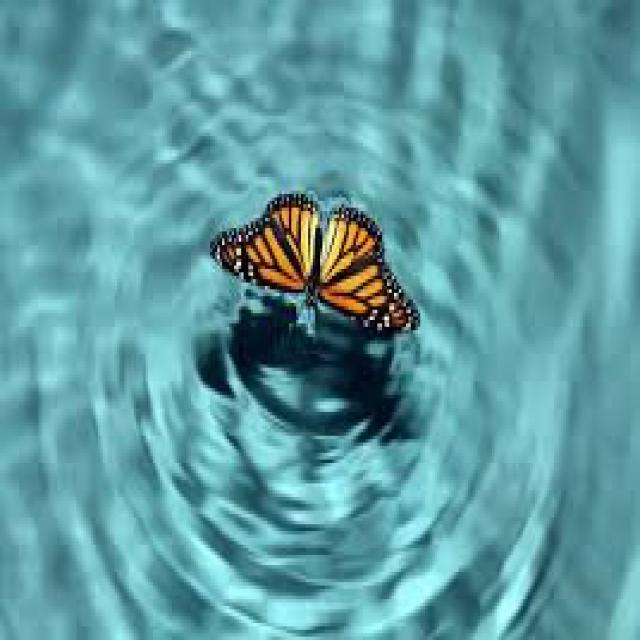butterfly: (208, 170, 423, 383)
